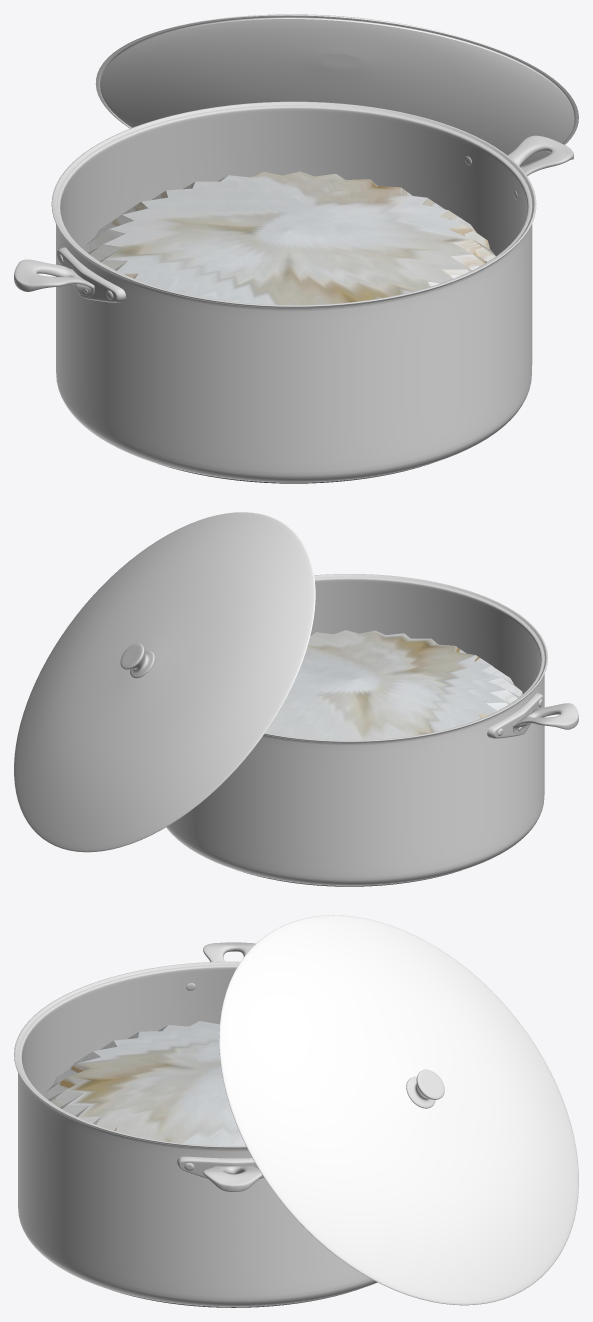
Rendered from rice pot.fbx.
3 renders of one model, top to bottom at view 1: azimuth 30°, elevation 25°; view 2: azimuth 150°, elevation 25°; view 3: azimuth 270°, elevation 25°, orthographic. The views are drawn at different scales.
Parts seen in each view (by area): view 1: Large_Pot; view 2: Large_Pot; view 3: Large_Pot.
Part boxes in pixels (bbox=[...]): Large_Pot: bbox=[14, 14, 578, 483]; Large_Pot: bbox=[14, 512, 578, 886]; Large_Pot: bbox=[14, 915, 578, 1307].
Size of the model in its own units: 37.17 by 20.48 by 33.41.
